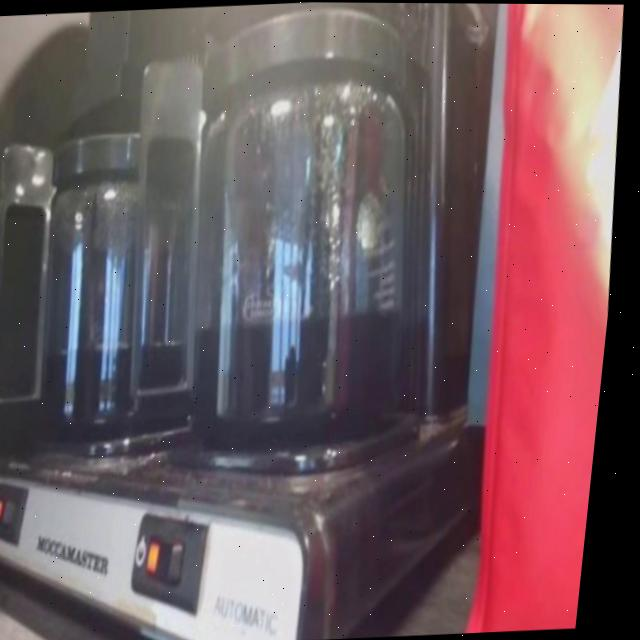coffee: (176, 117, 431, 440), (32, 191, 210, 426)
